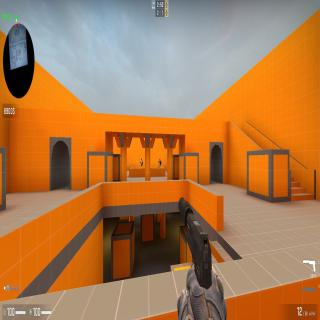T-Body: (140, 158, 143, 166), (159, 158, 161, 166)
T-Head: (141, 158, 142, 161), (160, 158, 160, 161)
